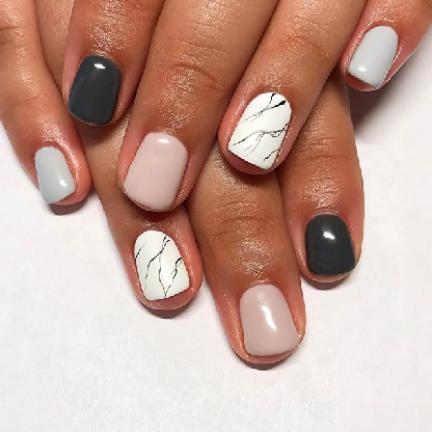Nail: (123, 132, 188, 211), (228, 92, 291, 170), (240, 284, 299, 356), (134, 230, 190, 300), (68, 55, 122, 125), (347, 26, 398, 88), (305, 214, 356, 276), (35, 147, 76, 203)
